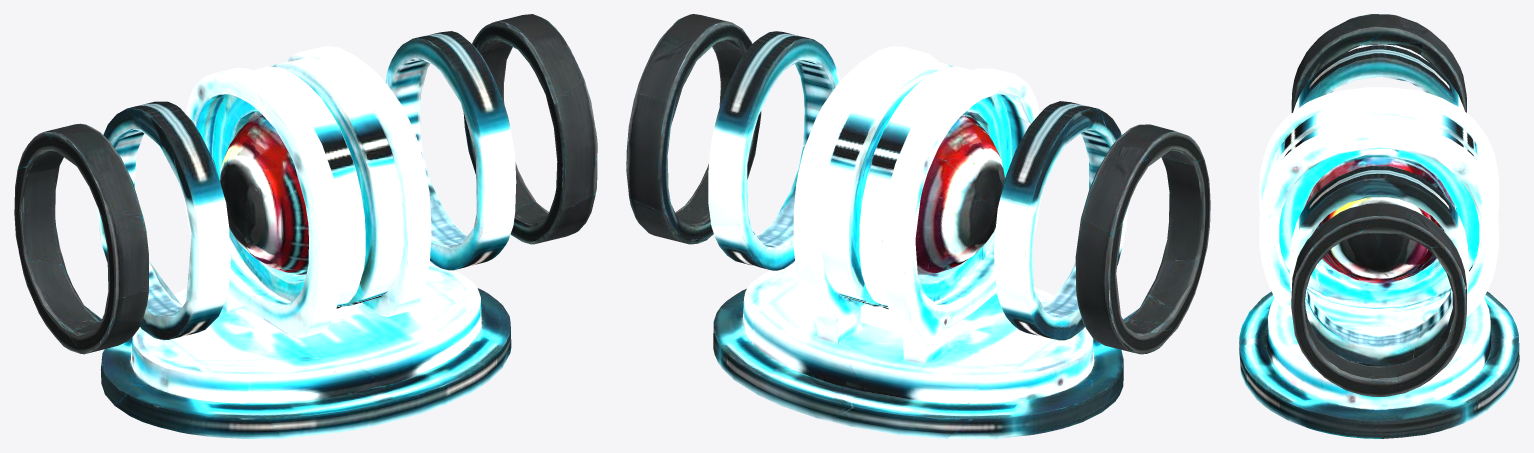
File: skill-pulse.glb
3 renders of one model, left to right at view 1: azimuth 30°, elevation 25°; view 2: azimuth 150°, elevation 25°; view 3: azimuth 270°, elevation 25°, orthographic. The views are drawn at different scales.
Bounding box in the file's own units: 1.9 × 1.09 × 1.11.
1 material, 1 textured.
